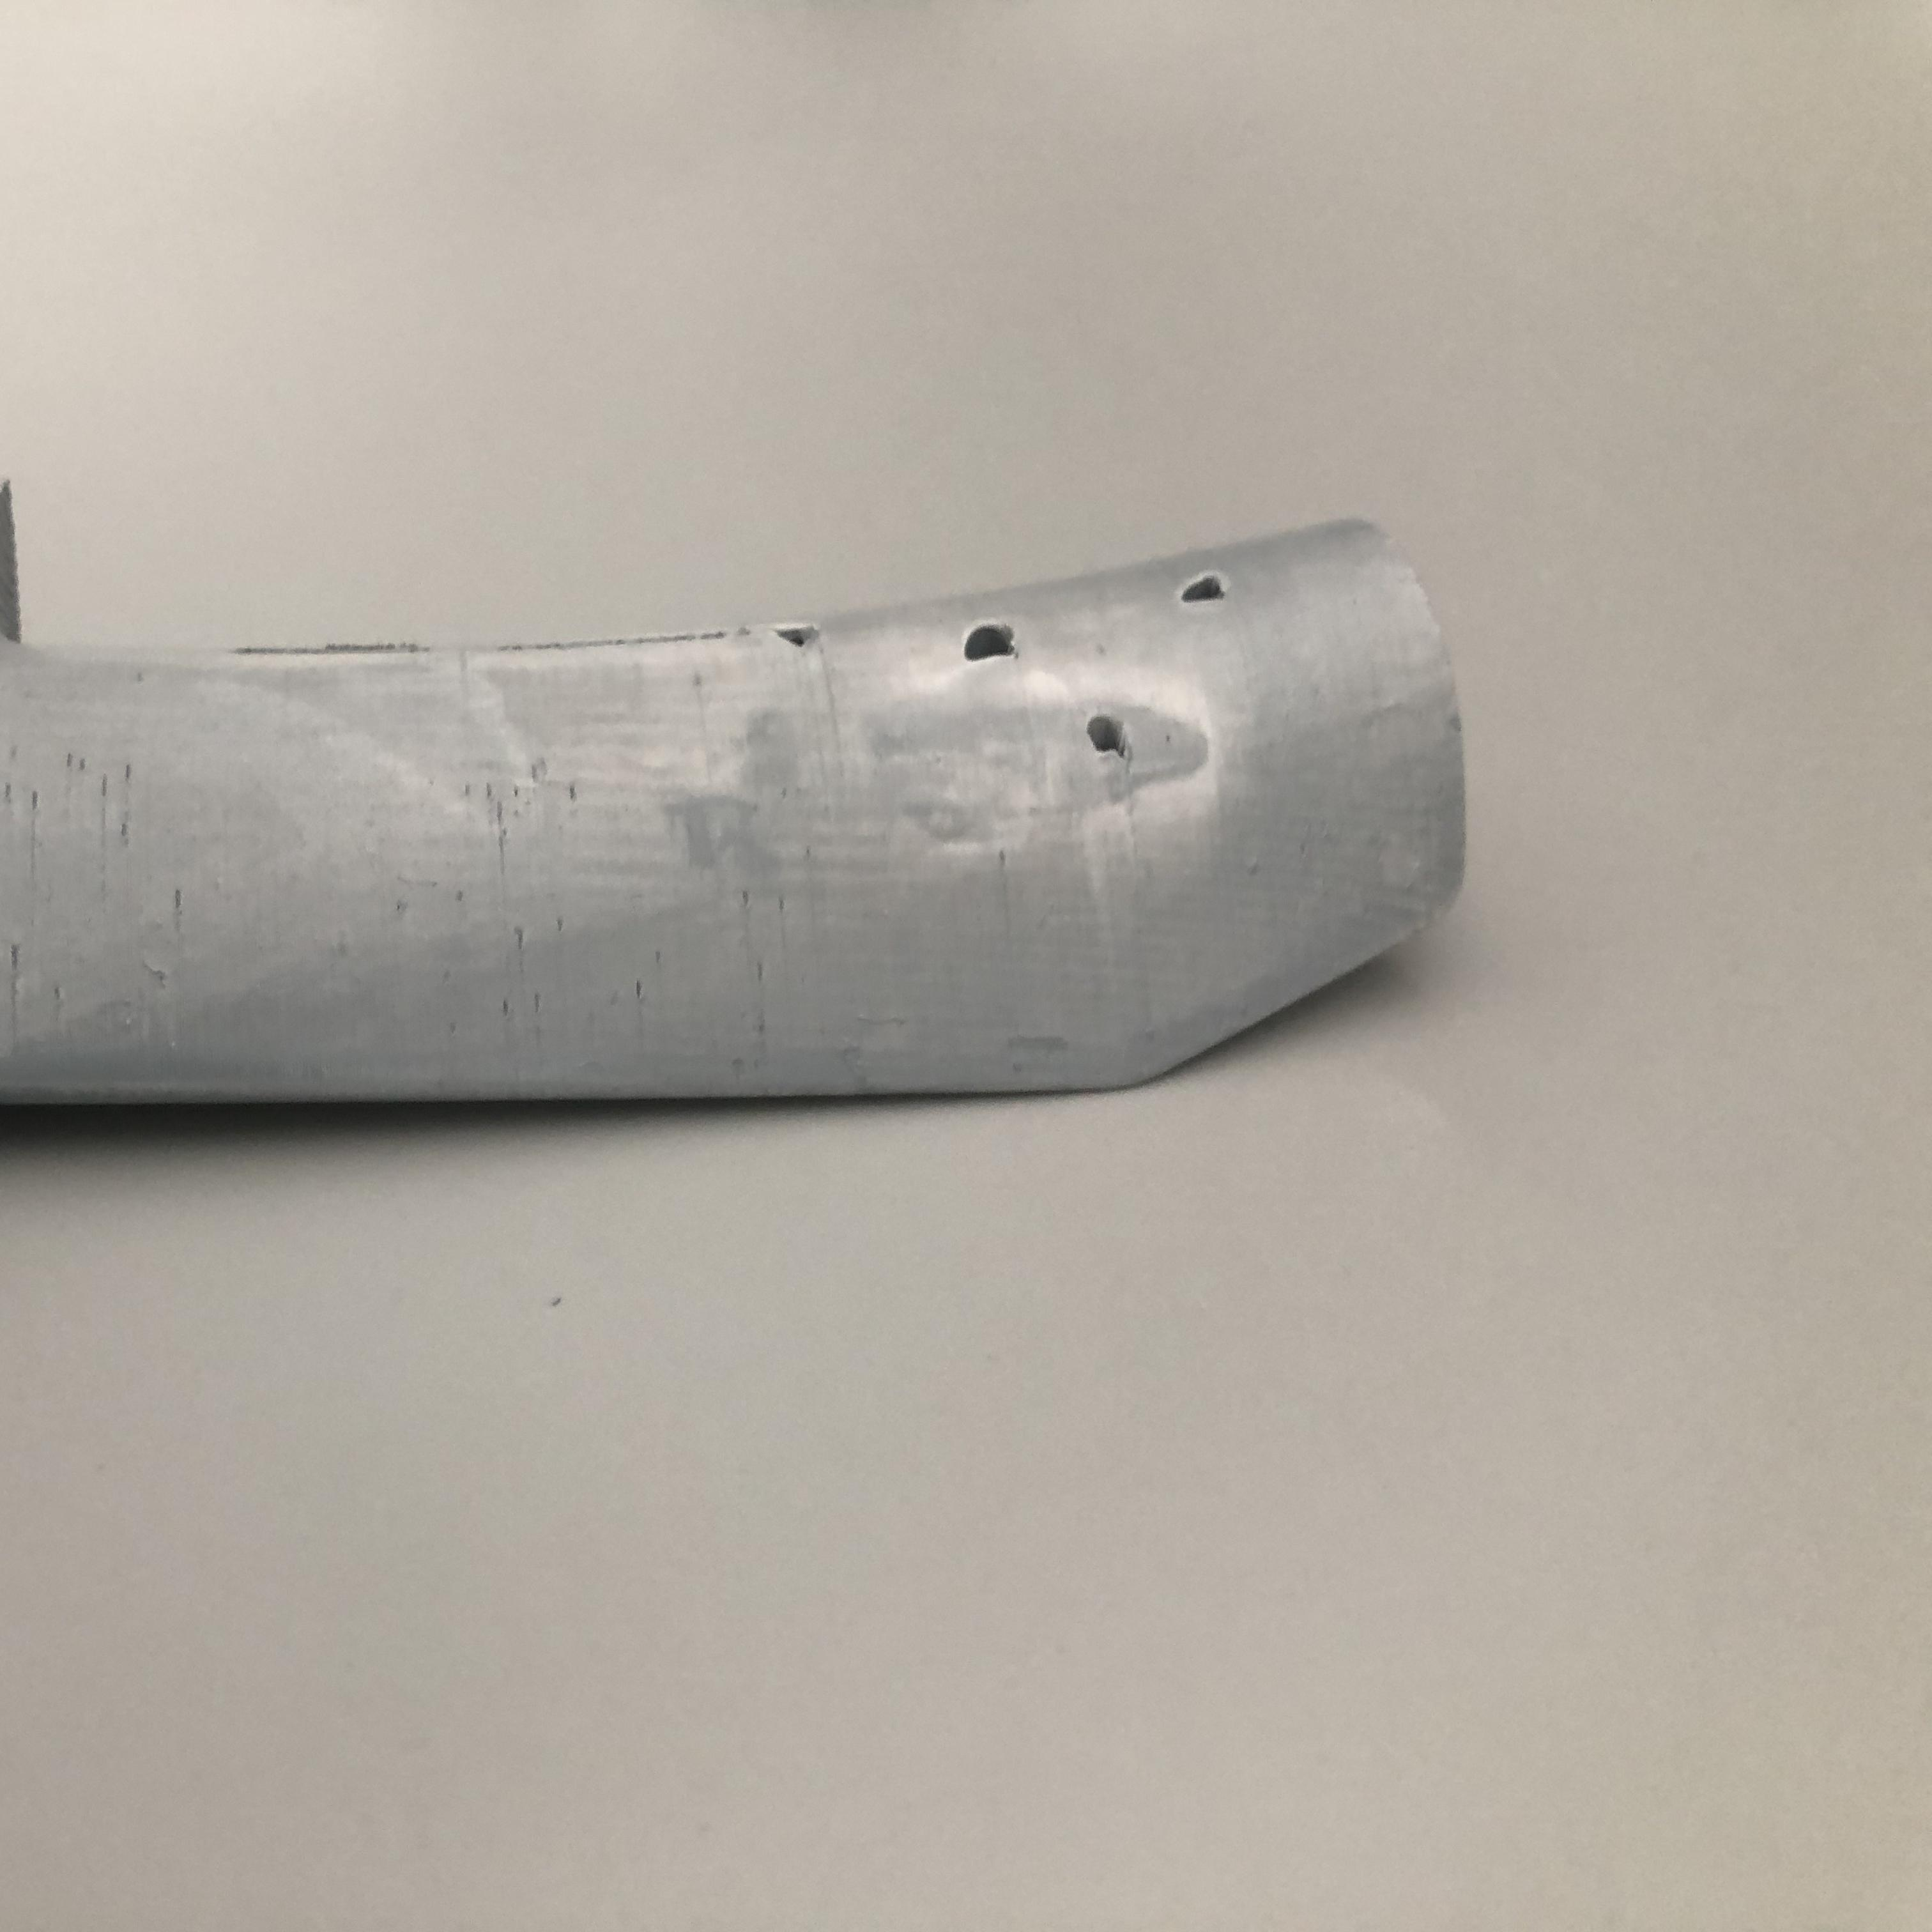breakdown: (771, 616, 1152, 770), (1166, 561, 1249, 619)
